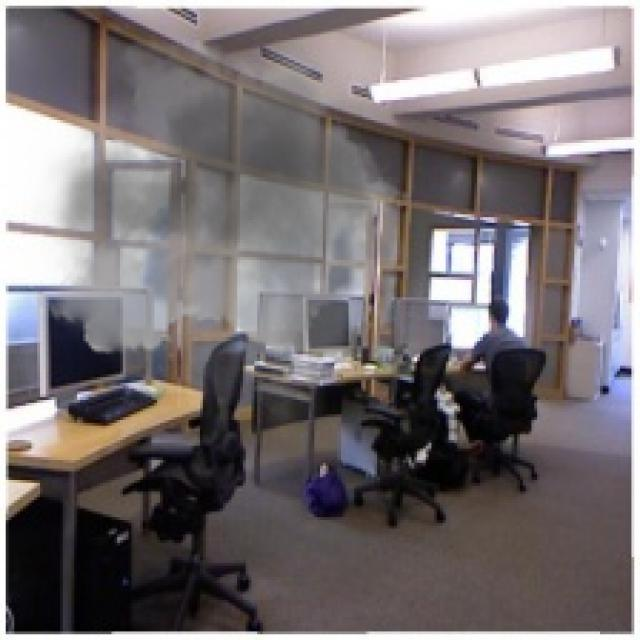smoke: (23, 17, 423, 440)
